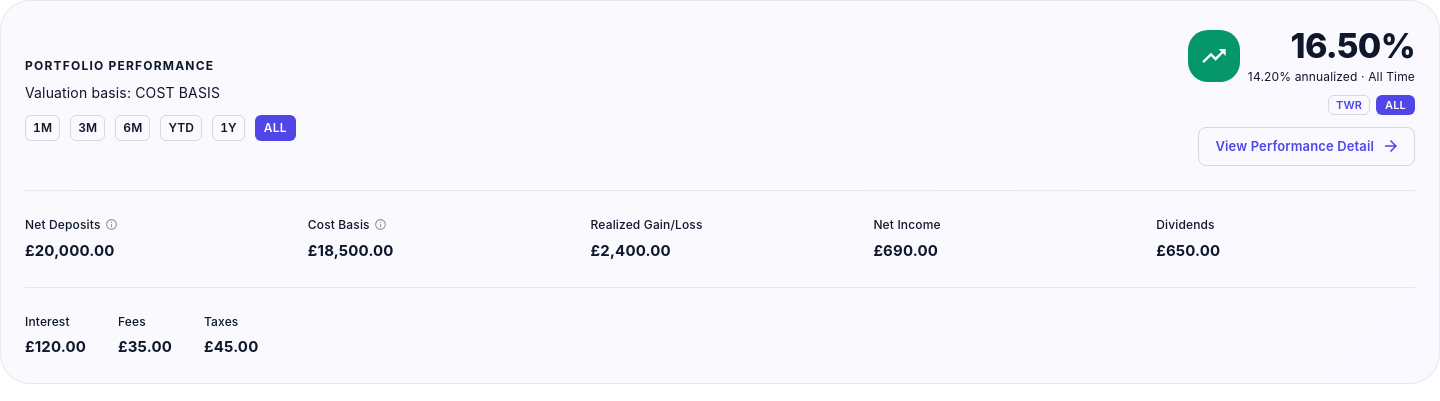
Test: Performance Feature Suite › PerformanceSummaryCard Component › switches to 1Y period and displays period return
Expected: the heading "16.50%" is shown, 1291,25 -> 1415,67
# Click 1Y chip
Click the button "1Y" at (228, 128), box 212,115 -> 245,141
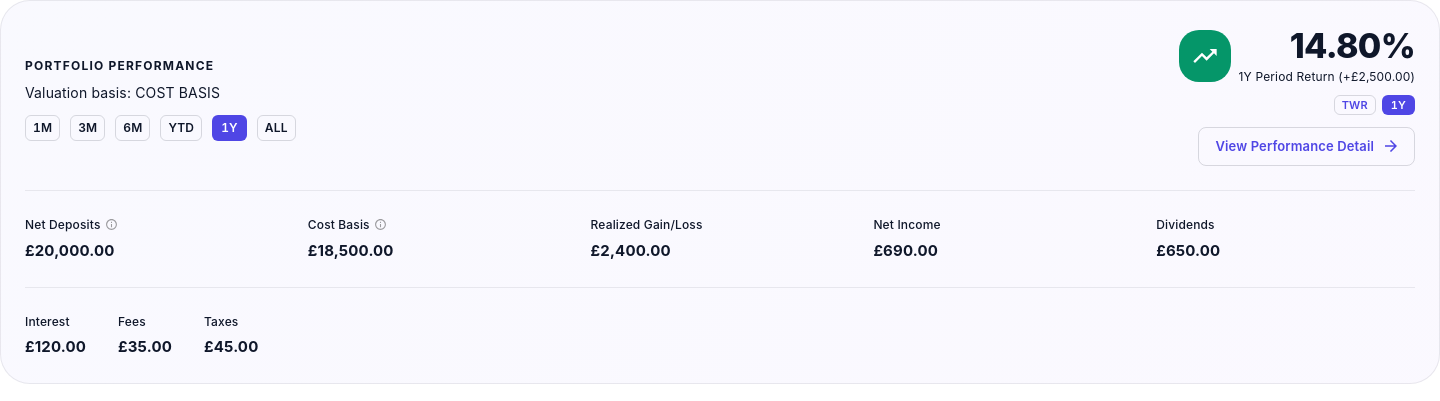
Now the heading "14.80%" is shown, box 1290,25 -> 1415,67
Now the text "1Y Period Return (+£2,500.00)" is shown, box 1239,67 -> 1415,87
